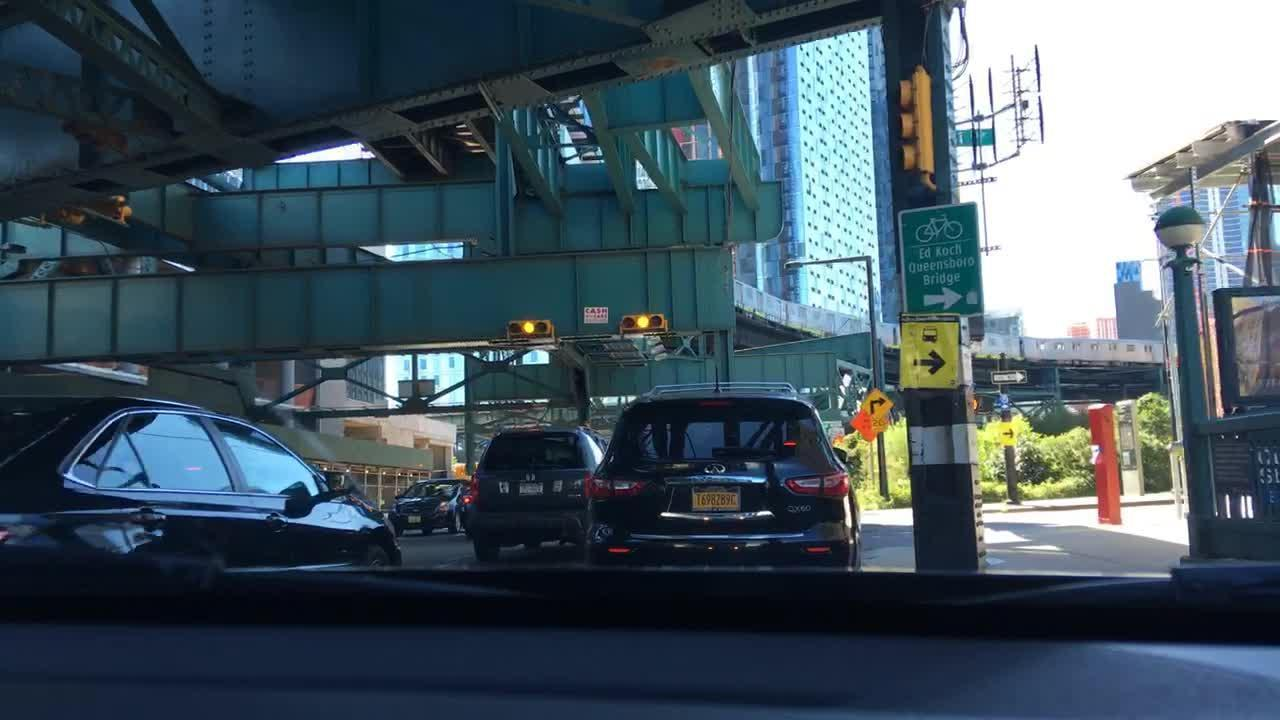Infiniti: (700, 457, 731, 480)
